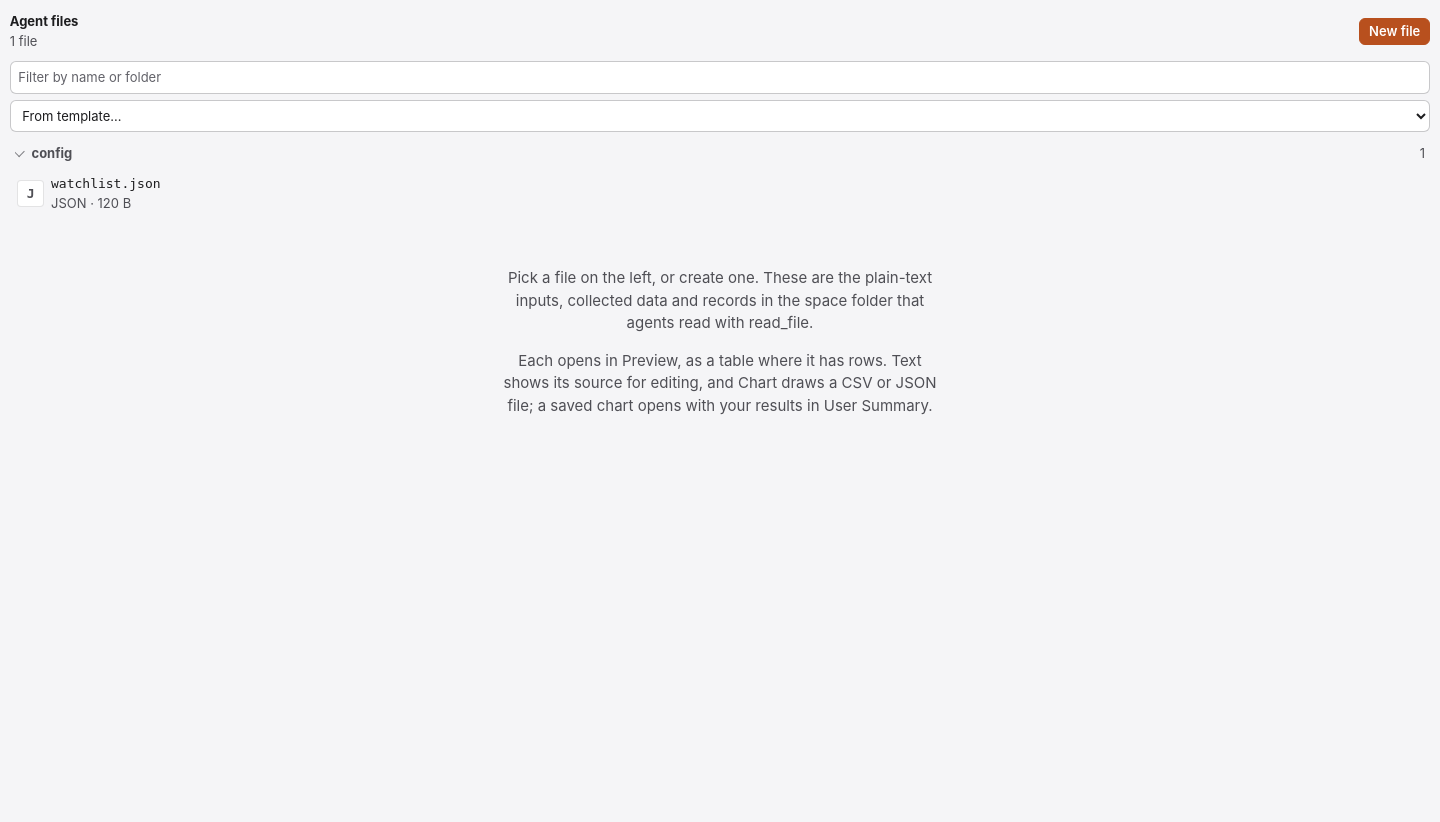
when a file action fails › closes a file another window already deleted, as asked
The width and height of the screenshot is (1440, 822).
Click the button with aria-label "config/watchlist.json".
click(106, 183)  # box left=10, top=167, right=1430, bottom=220
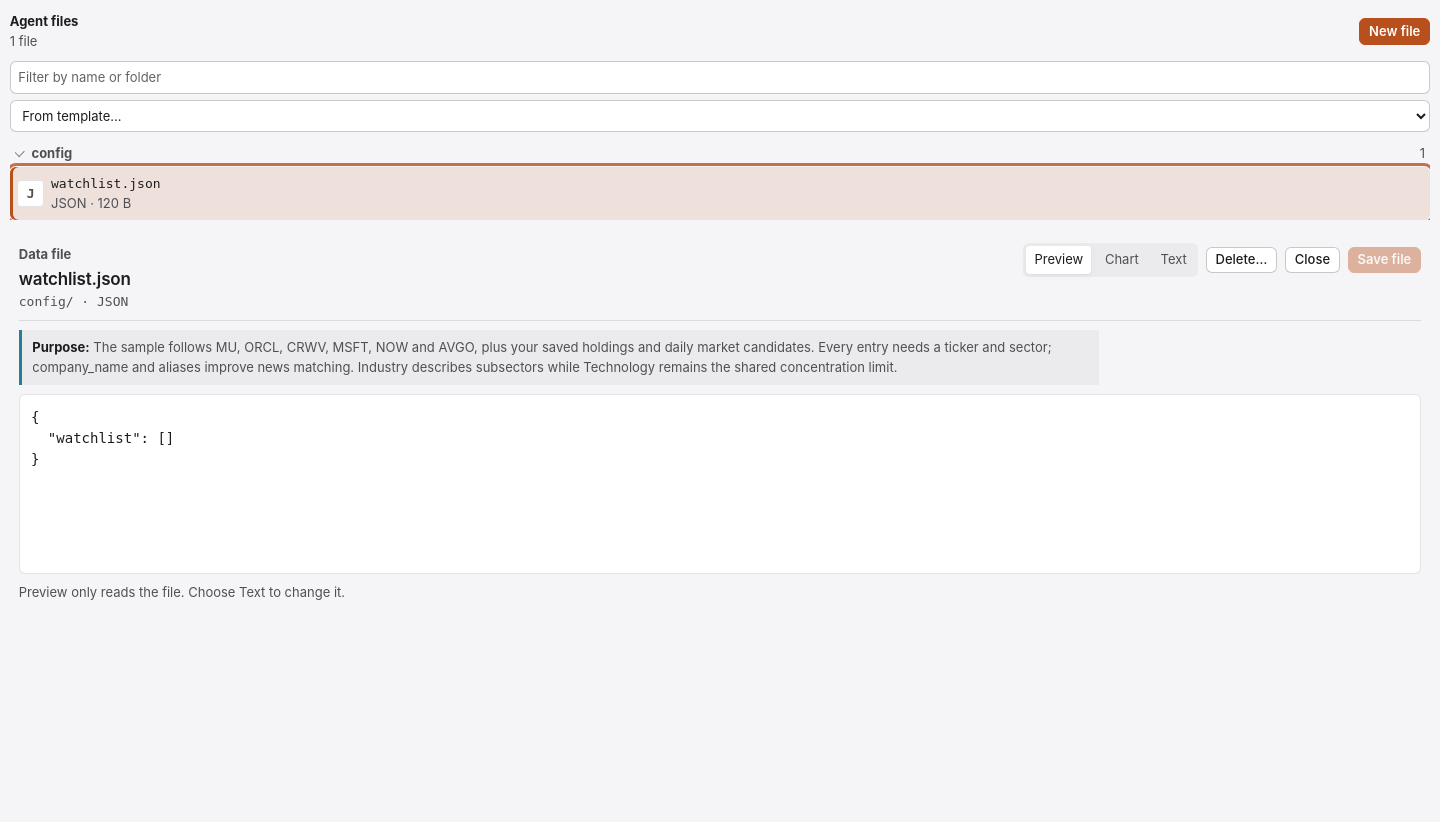
Click the button "Delete…".
click(1241, 260)  # box left=1206, top=247, right=1277, bottom=273
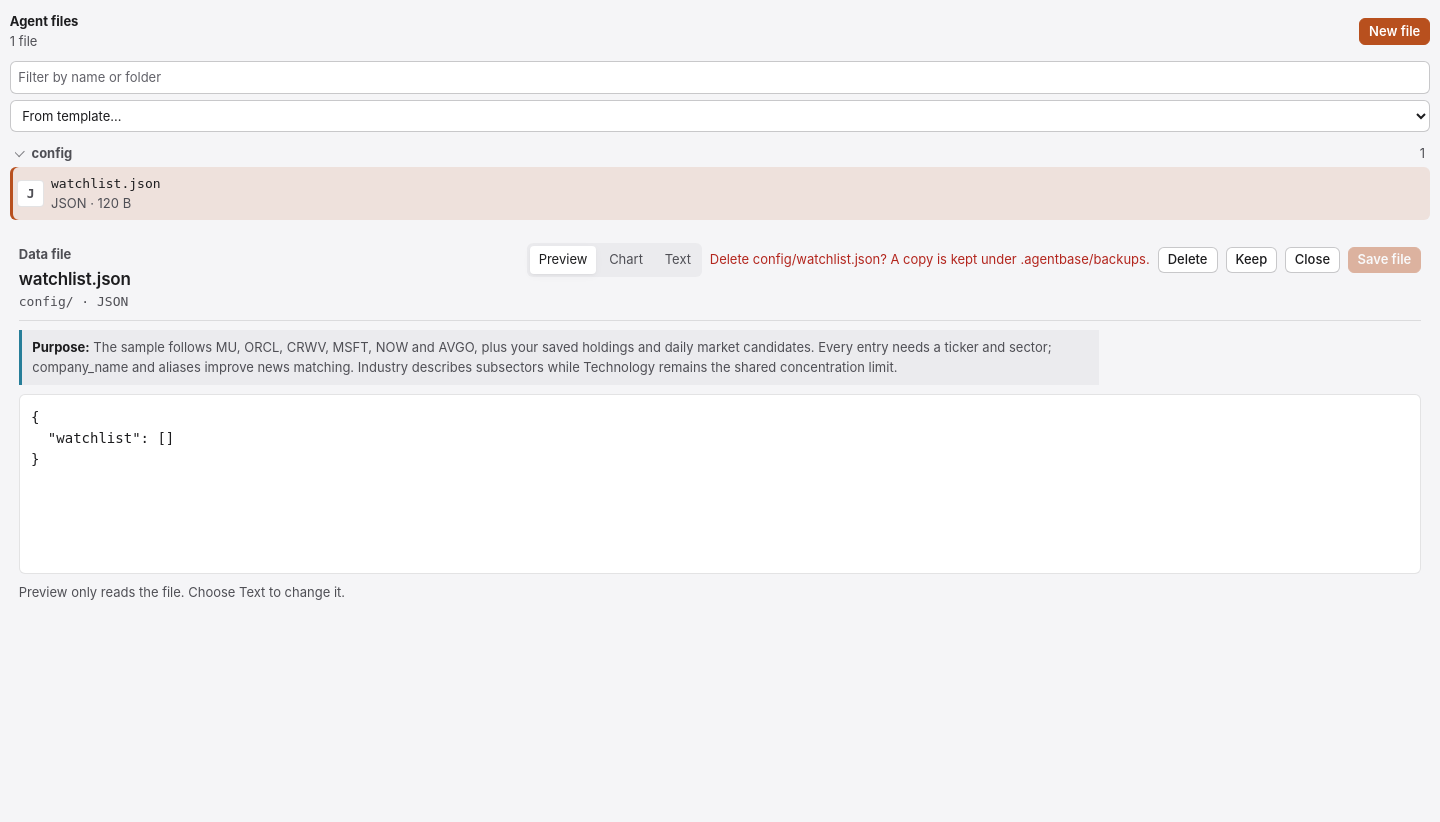
Click the button "Delete".
click(1188, 260)  # box left=1158, top=247, right=1218, bottom=273
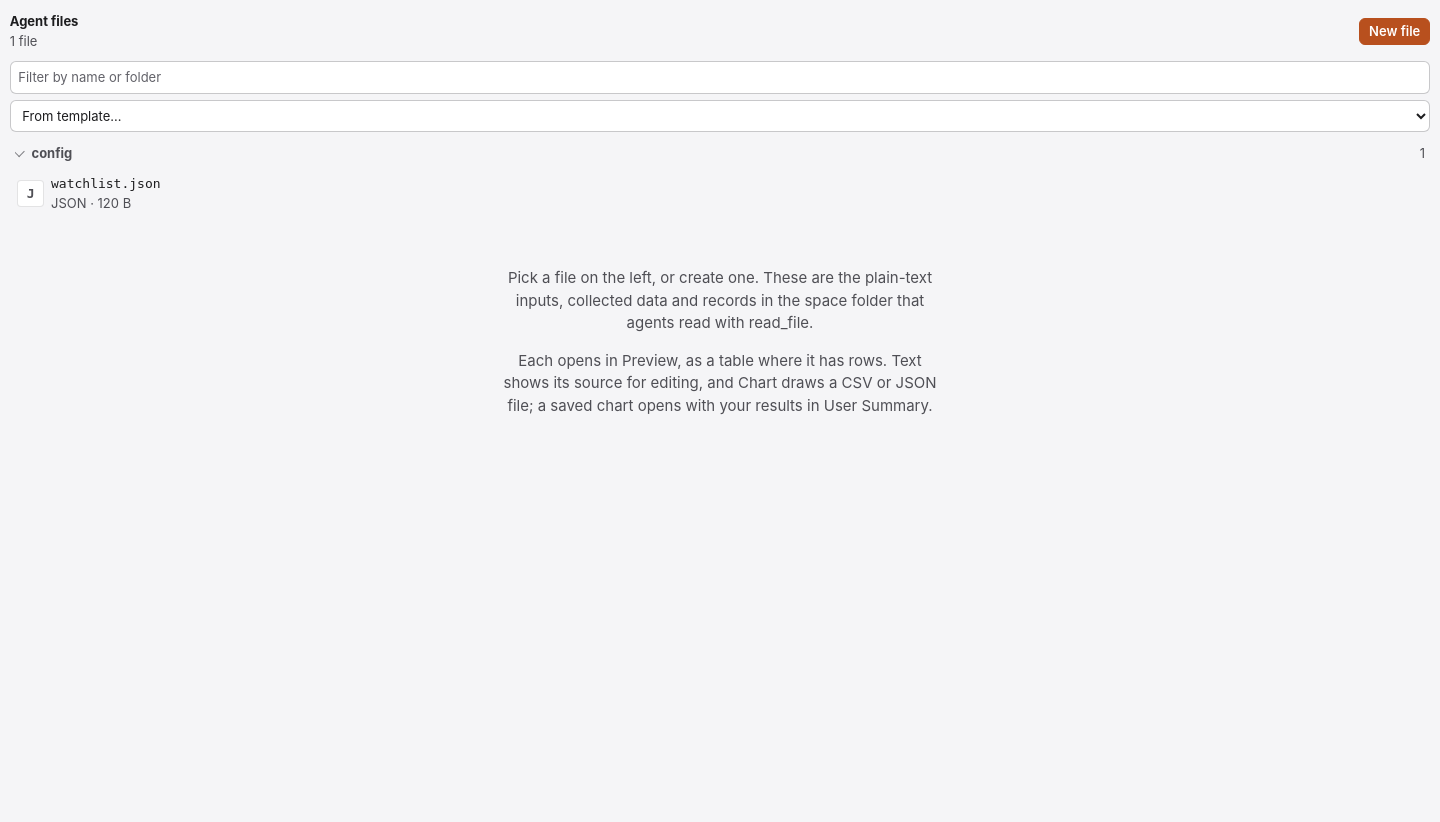
Expected: the text "Pick a file on the left" is shown, left=508, top=268, right=932, bottom=332
